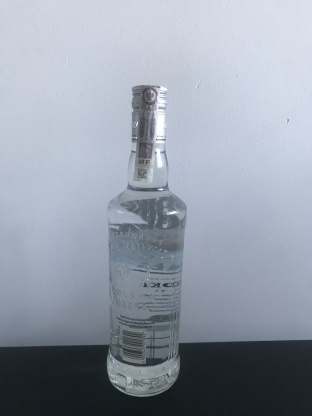nakretka: (128, 79, 170, 147)
